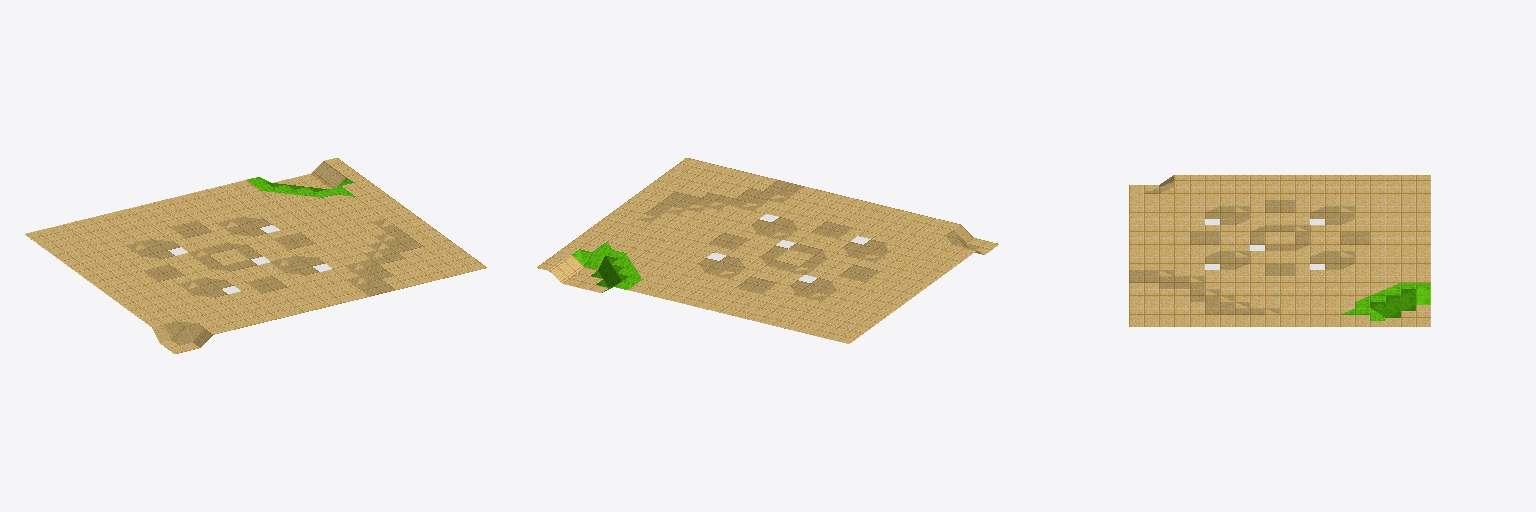
3 renders of one model, left to right at view 1: azimuth 30°, elevation 25°; view 2: azimuth 150°, elevation 25°; view 3: azimuth 270°, elevation 25°, orthographic.
Visible parts, largest first — view 1: FloorSide_8; view 2: FloorSide_8; view 3: FloorSide_8.
Boxes of the visible parts, x1=… form: FloorSide_8: x1=25, y1=158, x2=486, y2=353; FloorSide_8: x1=537, y1=158, x2=998, y2=343; FloorSide_8: x1=1129, y1=175, x2=1430, y2=326.
Bounding box in the file's own units: 24 × 0.7379 × 20.
Materials: 14 (13 with a texture image).